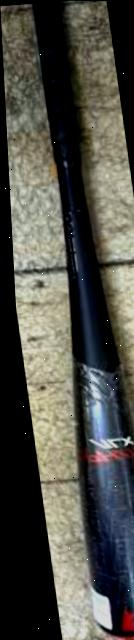baseball bat: (7, 0, 134, 640)
